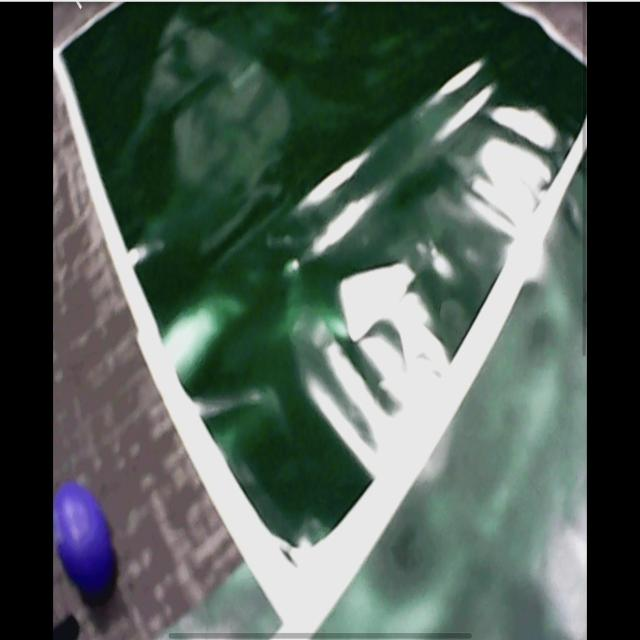ball: (56, 484, 115, 596)
